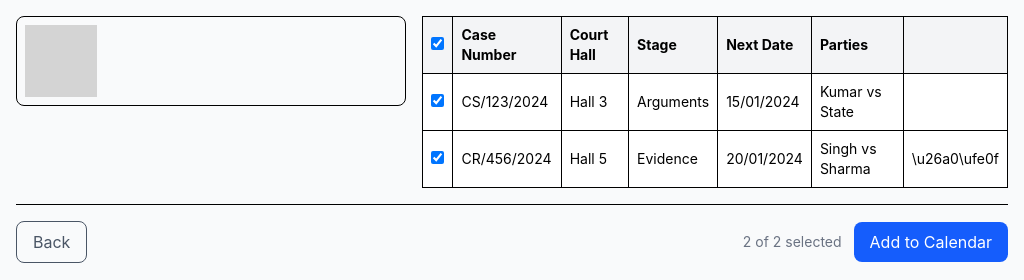
Test: ReviewStep › clicking a cell enables inline editing
Click the text "CS/123/2024": [505, 102] box [461,93,548,110]
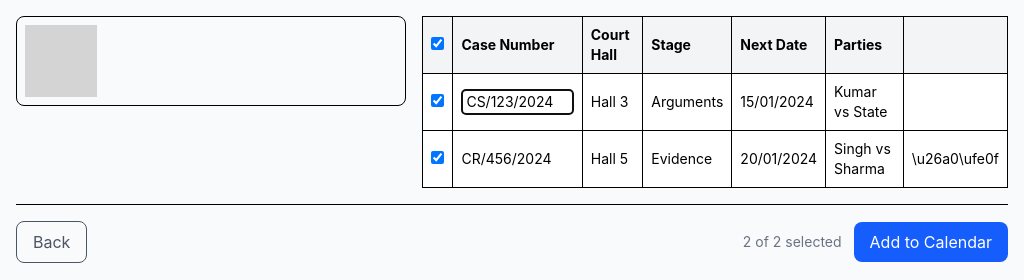
Check: the field showing "CS/123/2024" is shown, box [461,89,574,115]
